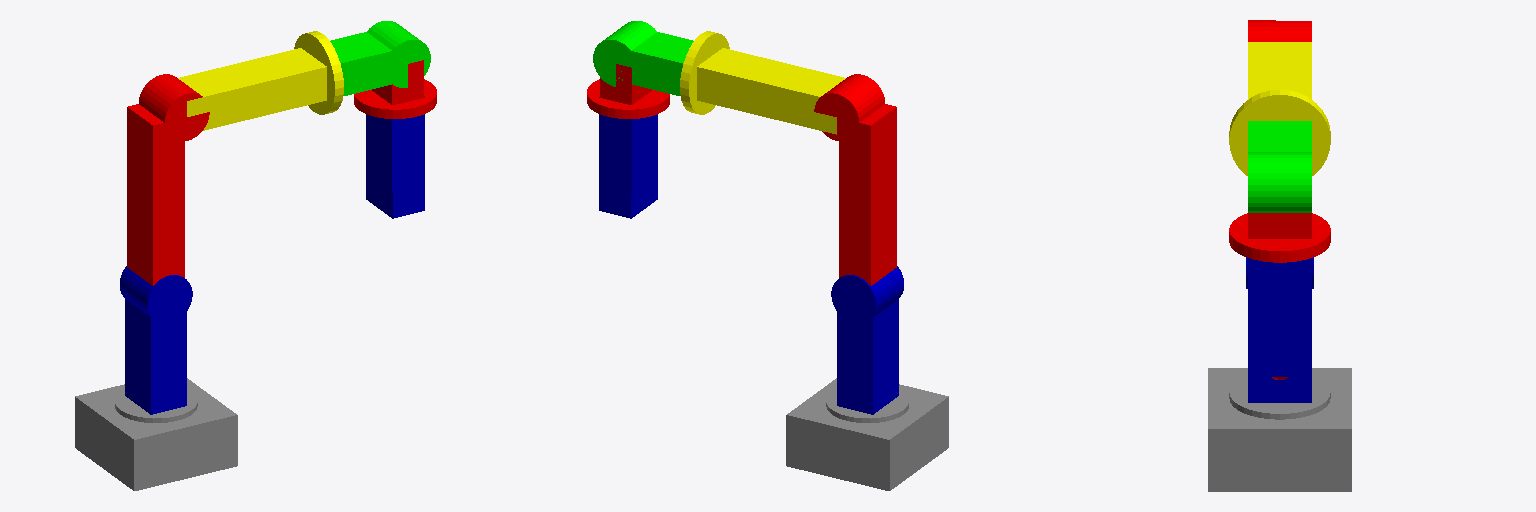
URDF robot description (omnipointer):
<?xml version="1.0"?>
<robot name="omnipointer">
  <!--MX64trntbl
  + MX106:  ? + 0.153 -->
  <!-- singleaxismount + 2.5girder + singleaxismount + base + MX106: 0.007370876 + 0.0226796 +
  0.007370876 + ? + 0.153 -->
  <!-- frame106 + singleaxismount + adjustgirder + singleaxismount + base + MX28: 0.0907185 +
  0.00737088 + 0.110563 + 0.00737088 + ? + 0.077 -->
  <!-- frame28 + singleaxismount + 5girder + singleaxismount + base + MX28: 0.0907185 + 0.00737088 +
  0.0368544 + 0.00737088 + ? + 0.077 -->
  <!-- frame28 + singleaxismount + 2.5girder + singleaxismount + tip: 0.0907185 + 0.00737088 +
  0.0226796 + 0.00737088 + ? -->
  <material name="omni/Blue">
    <color rgba="0 0 0.8 1" />
  </material>
  <material name="omni/Red">
    <color rgba="1 0 0 1" />
  </material>
  <material name="omni/Green">
    <color rgba="0 1 0 1" />
  </material>
  <material name="omni/Yellow">
    <color rgba="1 1 0 1" />
  </material>
  <material name="omni/LightGrey">
    <color rgba="0.6 0.6 0.6 1" />
  </material>
  <material name="omni/DarkGrey">
    <color rgba="0.4 0.4 0.4 1" />
  </material>


  <!-- foot for arm-->
  <link name="base_link">
    <inertial>
      <origin rpy="0 0 0" xyz="0 0 0" />
      <mass value="10.0" />
      <inertia ixx="0.1" ixy="0" ixz="0" iyy="0.1" iyz="0" izz="0.1" />
    </inertial>
  </link>
  <!-- joint between base_link and arm_0_link -->
  <joint name="arm_joint_0" type="fixed">
    <origin rpy="0 0 0" xyz="0 0 0" />
    <parent link="base_link" />
    <child link="arm_link_0" />
  </joint>


  <link name="arm_link_0">
    <visual>
      <origin rpy="0 0 0" xyz="0 0 0.02725" />
      <geometry>
        <box size="0.1143 0.1143 0.0545" />
      </geometry>
      <material name="omni/LightGrey" />
    </visual>
    <visual>
      <origin rpy="0 0 0" xyz="0 0 0.0545" />
      <geometry>
        <cylinder radius="0.04" length="0.01" />
      </geometry>
      <material name="omni/LightGrey" />
    </visual>

    <collision>
      <origin rpy="0 0 0" xyz="0 0 0.02725" />
      <geometry>
        <box size="0.1143 0.1143 0.0545" />
      </geometry>
    </collision>
    <inertial>
      <!-- CENTER OF MASS -->
      <origin rpy="0 0 0" xyz="0 0 0.02725" />
      <mass value="0.2" />
      <!-- box inertia: 1/12*m(y^2+z^2), ... -->
      <inertia ixx="0.000267245666667" ixy="0" ixz="0" iyy="0.000267245666667" iyz="0"
        izz="0.000435483" />
    </inertial>
  </link>


  <joint name="arm_joint_1" type="revolute">
    <parent link="arm_link_0" />
    <child link="arm_link_1" />
    <limit effort="5.0" lower="-3.1415926535" upper="3.1415926535" velocity="5.0" />
    <origin rpy="0 0 0.0" xyz="0 0 0.0545" />
    <axis xyz="0 0 1" />
    <dynamics damping="0.5" />
  </joint>


  <link name="arm_link_1">
    <visual>
      <origin rpy="0 0 0" xyz="0 0 0.0615" />
      <geometry>
        <box size="0.0402 0.05 0.123" />
      </geometry>
      <material name="omni/Blue" />
    </visual>

    <visual>
      <origin rpy="1.57 0 0" xyz="0 0 0.123" />
      <geometry>
        <cylinder radius="0.025" length="0.054" />
      </geometry>
      <material name="omni/Blue" />
    </visual>

    <collision>
      <origin rpy="0 0 0" xyz="0 0 0.0615" />
      <geometry>
        <box size="0.0402 0.05 0.123" />
      </geometry>
    </collision>

    <inertial>
      <!-- CENTER OF MASS -->
      <origin rpy="0 0 0" xyz="0 0 0.0615" />
      <mass value="0.190421352" />
      <!-- box inertia: 1/12*m(y^2+z^2), ... -->
      <inertia ixx="0.000279744834534" ixy="0" ixz="0" iyy="0.000265717763008" iyz="0"
        izz="6.53151584738e-05" />
    </inertial>
  </link>


  <joint name="arm_joint_2" type="revolute">
    <parent link="arm_link_1" />
    <child link="arm_link_2" />
    <limit effort="5.0" lower="-1.57079632679" upper="1.57079632679" velocity="5.0" />
    <origin rpy="0 0.0 0" xyz="0 0 0.123" />
    <axis xyz="0 1 0" />
    <dynamics damping="0.5" />
  </joint>


  <link name="arm_link_2">
    <visual>
      <origin rpy="0 0 0" xyz="0 0 0.09375" />
      <geometry>
        <box size="0.0356 0.05 0.1875" />
      </geometry>
      <material name="omni/Red" />
    </visual>
    <visual>
      <origin rpy="1.57 0 0" xyz="0.02 0 0.1875" />
      <geometry>
        <cylinder radius="0.025" length="0.05" />
      </geometry>
      <material name="omni/Red" />
    </visual>


    <collision>
      <origin rpy="0 0 0" xyz="0 0 0.09375" />
      <geometry>
        <box size="0.0356 0.05  0.1875" />
      </geometry>
    </collision>
    <inertial>
      <!-- CENTER OF MASS -->
      <origin rpy="0 0 0" xyz="0 0 0.9375" />
      <mass value="0.29302326" />
      <!-- box inertia: 1/12*m(y^2+z^2), ... -->
      <inertia ixx="0.00251484771035" ixy="0" ixz="0" iyy="0.00248474836108" iyz="0"
        izz="9.19936757328e-05" />
    </inertial>
  </link>


  <joint name="arm_joint_3" type="revolute">
    <parent link="arm_link_2" />
    <child link="arm_link_3" />
    <limit effort="5.0" lower="-1.57079632679" upper="1.57079632679" velocity="5.0" />
    <origin rpy="0 1.57 0" xyz="0.02 0 0.187" />
    <axis xyz="0 1 0" />
    <dynamics damping="0.5" />
  </joint>


  <link name="arm_link_3">
    <visual>
      <origin rpy="0 0 0" xyz="0 0 0.0825" />
      <geometry>
        <box size="0.0356 0.05 0.165" />
      </geometry>
      <material name="omni/Yellow" />
    </visual>

    <visual>
      <origin rpy="0 0 0" xyz="0 0 0.160" />
      <geometry>
        <cylinder radius="0.0402" length="0.01" />
      </geometry>
      <material name="omni/Yellow" />
    </visual>

    <collision>
      <origin rpy="0 0 0" xyz="0 0 0.0825" />
      <geometry>
        <box size="0.0356 0.05 0.165" />
      </geometry>
    </collision>
    <inertial>
      <!-- CENTER OF MASS -->
      <origin rpy="0 0 0" xyz="0 0 0.0825" />
      <mass value="0.21931466" />
      <!-- box inertia: 1/12*m(y^2+z^2), ... -->
      <inertia ixx="0.000791433503053" ixy="0" ixz="0" iyy="0.000768905501178" iyz="0"
        izz="6.88531064581e-05" />
    </inertial>
  </link>

  <joint name="arm_joint_4" type="revolute">
    <parent link="arm_link_3" />
    <child link="arm_link_4" />
    <limit effort="5.0" lower="-1.57079632679" upper="1.57079632679" velocity="5.0" />
    <origin rpy="0 0 0.0" xyz="0 0 0.165" />
    <axis xyz="0 0 1" />
    <dynamics damping="0.5" />
  </joint>


  <link name="arm_link_4">
    <visual>
      <origin rpy="0 0 0" xyz="0 0 0.04" />
      <geometry>
        <box size="0.0356 0.05 0.08" />
      </geometry>
      <material name="omni/Green" />
    </visual>

    <visual>
      <origin rpy="1.57 0 0" xyz="0 0 0.08" />
      <geometry>
        <cylinder radius="0.025" length="0.05" />
      </geometry>
      <material name="omni/Green" />
    </visual>

    <collision>
      <origin rpy="0 0 0" xyz="0 0 0.04" />
      <geometry>
        <box size="0.0356 0.05 0.08" />
      </geometry>
    </collision>
    <inertial>
      <!-- CENTER OF MASS -->
      <origin rpy="0 0 0" xyz="0 0 0.08025" />
      <mass value="0.15813986" />
      <!-- box inertia: 1/12*m(y^2+z^2), ... -->
      <inertia ixx="0.00037242266488" ixy="0" ixz="0" iyy="0.000356178538461" iyz="0"
        izz="4.96474819141e-05" />
    </inertial>
  </link>

  <joint name="arm_joint_5" type="revolute">
    <parent link="arm_link_4" />
    <child link="arm_link_5" />
    <origin rpy="0 1.57 0" xyz="0 0 0.08" />
    <axis xyz="0 1 0" />
    <limit effort="5.0" lower="-1.57079632679" upper="1.57079632679" velocity="5.0" />

  </joint>


  <link name="arm_link_5">
    <visual>
      <origin rpy="0 0 0" xyz="0 0 0.0225" />
      <geometry>
        <box size="0.0356 0.05 0.045" />
      </geometry>
      <material name="omni/Red" />
    </visual>

    <visual>
      <origin rpy="0 0 0" xyz="0 0 0.045" />
      <geometry>
        <cylinder radius="0.0402" length="0.01" />
      </geometry>
      <material name="omni/Red" />
    </visual>

    <collision>
      <origin rpy="0 0 0" xyz="0 0 0.0225" />
      <geometry>
        <box size="0.0356 0.05 0.045" />
      </geometry>
    </collision>
    <inertial>
      <!-- CENTER OF MASS -->
      <origin rpy="0 0 0" xyz="0 0 0.08" />
      <mass value="0.15813986" />
      <!-- box inertia: 1/12*m(y^2+z^2), ... -->
      <inertia ixx="0.00037242266488" ixy="0" ixz="0" iyy="0.000356178538461" iyz="0"
        izz="4.96474819141e-05" />
    </inertial>
  </link>


  <joint name="arm_joint_6" type="revolute">
    <parent link="arm_link_5" />
    <child link="arm_link_6" />
    <origin rpy="0 0 0.0" xyz="0 0 0.045" />
    <axis xyz="0 0 1" />
    <limit effort="5.0" lower="-1.57079632679" upper="1.57079632679" velocity="5.0" />

  </joint>


  <link name="arm_link_6">
    <visual>
      <origin rpy="0 0 0" xyz="0 0 0.0575" />
      <geometry>
        <box size="0.0356 0.05 0.115" />
      </geometry>
      <material name="omni/Blue" />
    </visual>
    <collision>
      <origin rpy="0 0 0" xyz="0 0 0.0575" />
      <geometry>
        <box size="0.0356 0.05 0.115" />
      </geometry>
    </collision>
    <inertial>
      <!-- CENTER OF MASS -->
      <origin rpy="0 0 0" xyz="0 0 0.08025" />
      <mass value="0.15813986" />
      <!-- box inertia: 1/12*m(y^2+z^2), ... -->
      <inertia ixx="0.00037242266488" ixy="0" ixz="0" iyy="0.000356178538461" iyz="0"
        izz="4.96474819141e-05" />
    </inertial>
  </link>


  <joint name="arm_joint_7" type="fixed">
    <parent link="arm_link_6" />
    <child link="tip" />
    <origin rpy="0 0 0" xyz="0 0 0.115" />
    <axis xyz="0 1 0" />
  </joint>


  <link name="tip">
    <visual>
      <origin rpy="0 0 0" xyz="0 0 0.0" />
      <geometry>
        <sphere radius="0.01" />
      </geometry>
      <material name="omni/Red" />
    </visual>
    <collision>
      <origin rpy="0 0 0" xyz="0 0 0.0" />
      <geometry>
        <sphere radius="0.01" />
      </geometry>
    </collision>
    <inertial>
      <!-- CENTER OF MASS -->
      <origin rpy="0 0 0" xyz="0 0 0.08025" />
      <mass value="0.15813986" />
      <!-- box inertia: 1/12*m(y^2+z^2), ... -->
      <inertia ixx="0.00037242266488" ixy="0" ixz="0" iyy="0.000356178538461" iyz="0"
        izz="4.96474819141e-05" />
    </inertial>
  </link>

  <!-- END OF ARM LINKS/JOINTS -->
</robot>

--- What the picture shows (computed from the rendered views, not written in the file) ---
3 views of the same robot in one strip: view 1: azimuth 30°, elevation 25°; view 2: azimuth 150°, elevation 25°; view 3: azimuth 270°, elevation 25° (orthographic).
Robot: omnipointer — 9 links, 8 joints (6 revolute, 2 fixed); root link base_link; default pose: every joint at zero.
Visible links, largest first — view 1: arm_link_0, arm_link_2, arm_link_3, arm_link_1, arm_link_6, arm_link_4, arm_link_5; view 2: arm_link_0, arm_link_2, arm_link_3, arm_link_1, arm_link_6, arm_link_4, arm_link_5; view 3: arm_link_0, arm_link_6, arm_link_3, arm_link_4, arm_link_5, arm_link_1, arm_link_2.
Boxes of the visible links, x1,y1,x2,y2 form: arm_link_0: (75,378,237,490); arm_link_2: (127,74,209,285); arm_link_3: (178,31,343,130); arm_link_1: (120,266,192,414); arm_link_6: (366,114,424,218); arm_link_4: (330,21,430,95); arm_link_5: (354,60,436,118); arm_link_0: (786,378,948,490); arm_link_2: (814,74,896,285); arm_link_3: (680,31,845,134); arm_link_1: (831,266,903,414); arm_link_6: (599,114,657,218); arm_link_4: (593,21,693,95); arm_link_5: (587,64,669,118); arm_link_0: (1208,368,1351,491); arm_link_6: (1248,258,1311,376); arm_link_3: (1229,42,1330,175); arm_link_4: (1248,121,1311,212); arm_link_5: (1229,213,1330,262); arm_link_1: (1246,257,1313,402); arm_link_2: (1248,20,1311,41).
Bounding box of the posed robot: 0.3624 × 0.1143 × 0.4048 m (x, y, z).
Geometry: primitives only (box / cylinder / sphere), no mesh files.